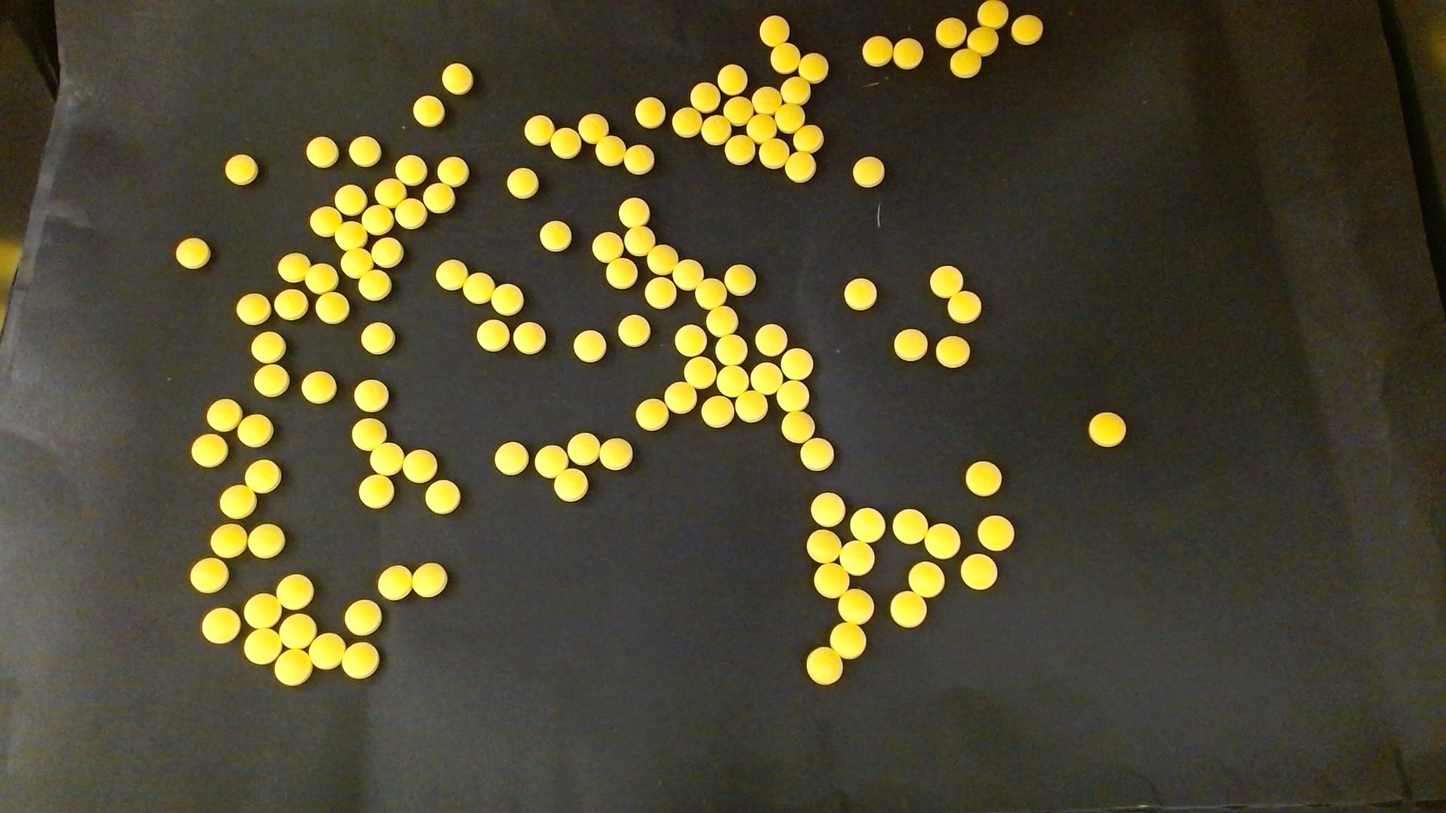Circle: (343, 600, 383, 638), (200, 607, 239, 644), (190, 557, 228, 594), (806, 647, 843, 685), (245, 458, 281, 496), (209, 523, 247, 559), (274, 650, 312, 686), (830, 622, 867, 658), (243, 592, 280, 628), (341, 642, 378, 678), (276, 574, 313, 610), (961, 554, 997, 590), (358, 474, 394, 510), (978, 515, 1014, 551), (218, 484, 255, 519), (248, 523, 285, 558), (1089, 412, 1126, 447), (237, 413, 273, 448), (244, 629, 280, 664), (411, 562, 447, 597), (191, 433, 227, 468), (279, 614, 316, 648), (339, 246, 374, 281), (813, 562, 848, 597), (309, 633, 344, 668), (891, 592, 926, 627), (810, 492, 845, 527), (965, 461, 1000, 496), (838, 589, 874, 623), (850, 507, 886, 541), (909, 562, 944, 596), (892, 508, 927, 542), (360, 321, 395, 355), (253, 364, 289, 397), (206, 398, 242, 431), (839, 540, 873, 574), (425, 480, 459, 514), (377, 565, 411, 599), (402, 450, 437, 483), (353, 379, 388, 412), (301, 370, 336, 403), (175, 237, 211, 269), (947, 291, 981, 324), (476, 318, 509, 352), (494, 441, 527, 475), (774, 102, 807, 135), (755, 323, 788, 356), (924, 524, 957, 557), (757, 137, 790, 170), (554, 469, 587, 502), (512, 321, 545, 354), (316, 291, 349, 324), (801, 437, 834, 470), (305, 263, 339, 295), (352, 418, 386, 450), (807, 530, 841, 562), (251, 330, 285, 362), (358, 269, 392, 301), (236, 293, 270, 325), (936, 336, 970, 368), (701, 395, 733, 428), (782, 411, 815, 443), (599, 438, 632, 470), (635, 399, 668, 431), (894, 328, 927, 360), (462, 273, 496, 304), (224, 154, 258, 185), (778, 379, 810, 411), (491, 283, 523, 315), (930, 265, 962, 297), (618, 315, 650, 347), (574, 330, 606, 362), (506, 167, 538, 199), (673, 106, 704, 139), (274, 289, 307, 320), (370, 442, 403, 473), (333, 184, 366, 215), (535, 445, 566, 478), (539, 220, 572, 251), (843, 278, 876, 309), (671, 259, 703, 290), (694, 278, 726, 309), (435, 258, 466, 290), (779, 347, 811, 378), (395, 154, 427, 185), (717, 364, 749, 395), (370, 236, 402, 267), (664, 382, 696, 413), (735, 391, 767, 422), (568, 433, 599, 465), (306, 136, 337, 168), (412, 95, 444, 126), (785, 151, 816, 183), (441, 62, 472, 94), (334, 220, 367, 250), (277, 252, 310, 282), (675, 324, 706, 355), (781, 75, 812, 106), (724, 263, 755, 294), (395, 197, 426, 228), (715, 334, 746, 365), (645, 277, 676, 308), (438, 156, 469, 187), (701, 114, 731, 146), (752, 361, 782, 393), (310, 206, 342, 236), (524, 114, 554, 145), (361, 204, 392, 234), (624, 225, 655, 255), (685, 357, 715, 388), (423, 181, 453, 212), (606, 257, 636, 288), (618, 197, 649, 227), (716, 63, 746, 94), (349, 136, 380, 166), (935, 17, 966, 47), (1011, 14, 1042, 44), (853, 156, 883, 187), (635, 96, 664, 128), (646, 245, 676, 275), (770, 42, 800, 72), (798, 52, 828, 82), (893, 38, 923, 68), (950, 47, 980, 77), (862, 36, 892, 66), (759, 15, 789, 45), (375, 178, 406, 207), (578, 113, 609, 142), (550, 126, 579, 157), (706, 307, 737, 336), (746, 113, 776, 142), (592, 232, 622, 261), (595, 135, 624, 165), (725, 134, 754, 164), (793, 123, 823, 152), (624, 145, 653, 174), (752, 86, 782, 114), (691, 81, 719, 111), (977, 1, 1008, 28), (724, 96, 752, 124), (968, 27, 997, 54)
